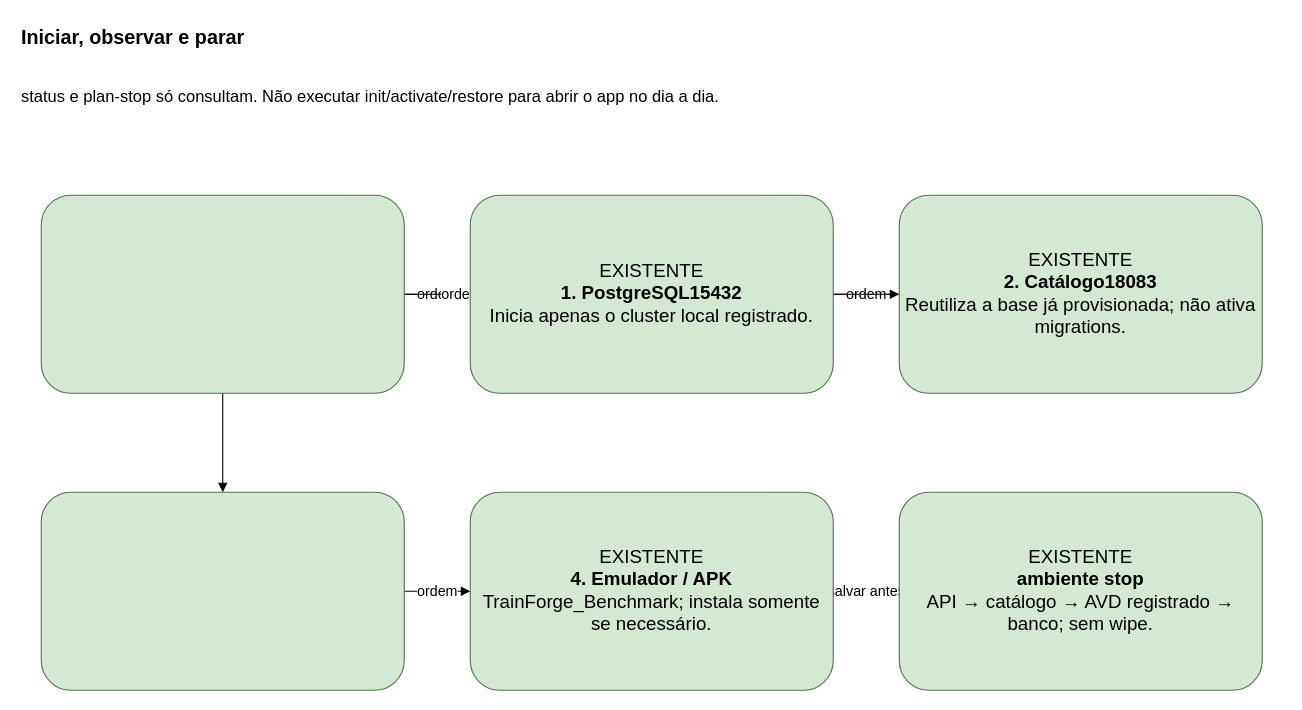
The diagram is 1302 pixels wide and 710 high, and some of its shapes have lost their labels. Here are the shapes that lost their labels. From the top down, the centre of each, then its label:
pixel 222 293: EXISTENTE ambiente start Reutiliza ferramentas e configuração já existentes.
pixel 222 590: EXISTENTE 3. API8082 Watcher local; build e Swagger quando as fontes mudam.
